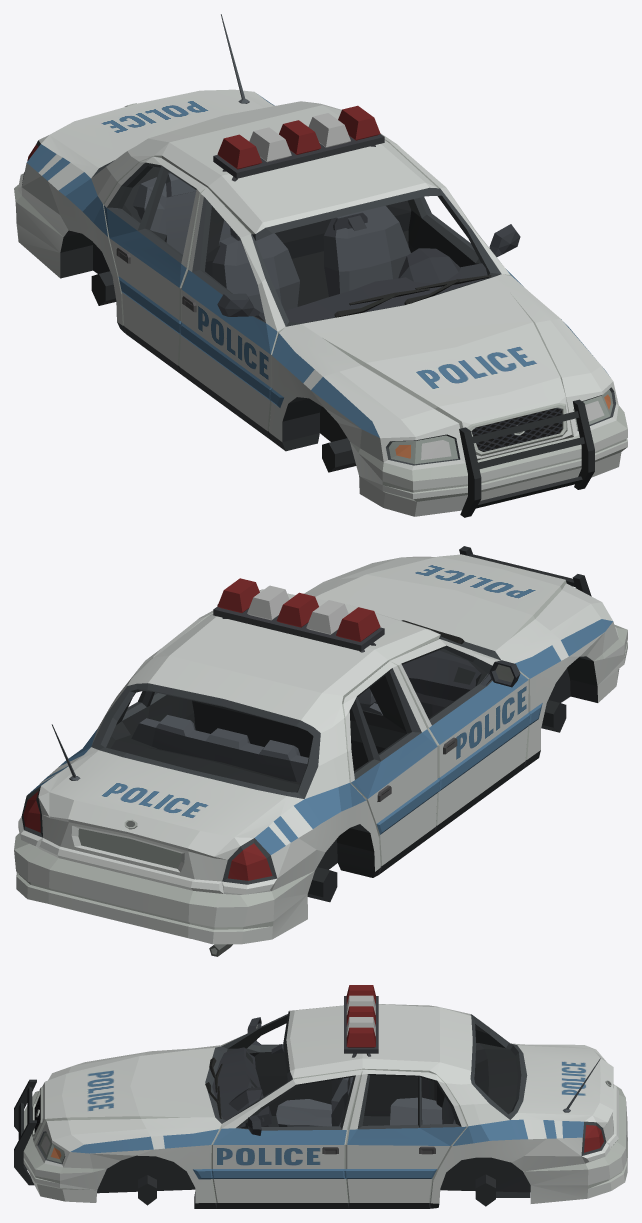
The model's file is SM_Veh_Car_Police_01.obj.
3 views of the same model, one above another, from view 1: azimuth 30°, elevation 25°; view 2: azimuth 150°, elevation 25°; view 3: azimuth 270°, elevation 25° (orthographic). The views are drawn at different scales.
Visible parts, largest first — view 1: SM_Veh_Car_Police_01_0; view 2: SM_Veh_Car_Police_01_0; view 3: SM_Veh_Car_Police_01_0.
Part boxes in pixels (x1,y1,x2,y2): SM_Veh_Car_Police_01_0: (14, 14, 627, 517); SM_Veh_Car_Police_01_0: (14, 546, 627, 956); SM_Veh_Car_Police_01_0: (14, 985, 627, 1208).
Size of the model in its own units: 2.17 by 1.52 by 5.25.
1 material, 1 textured.
